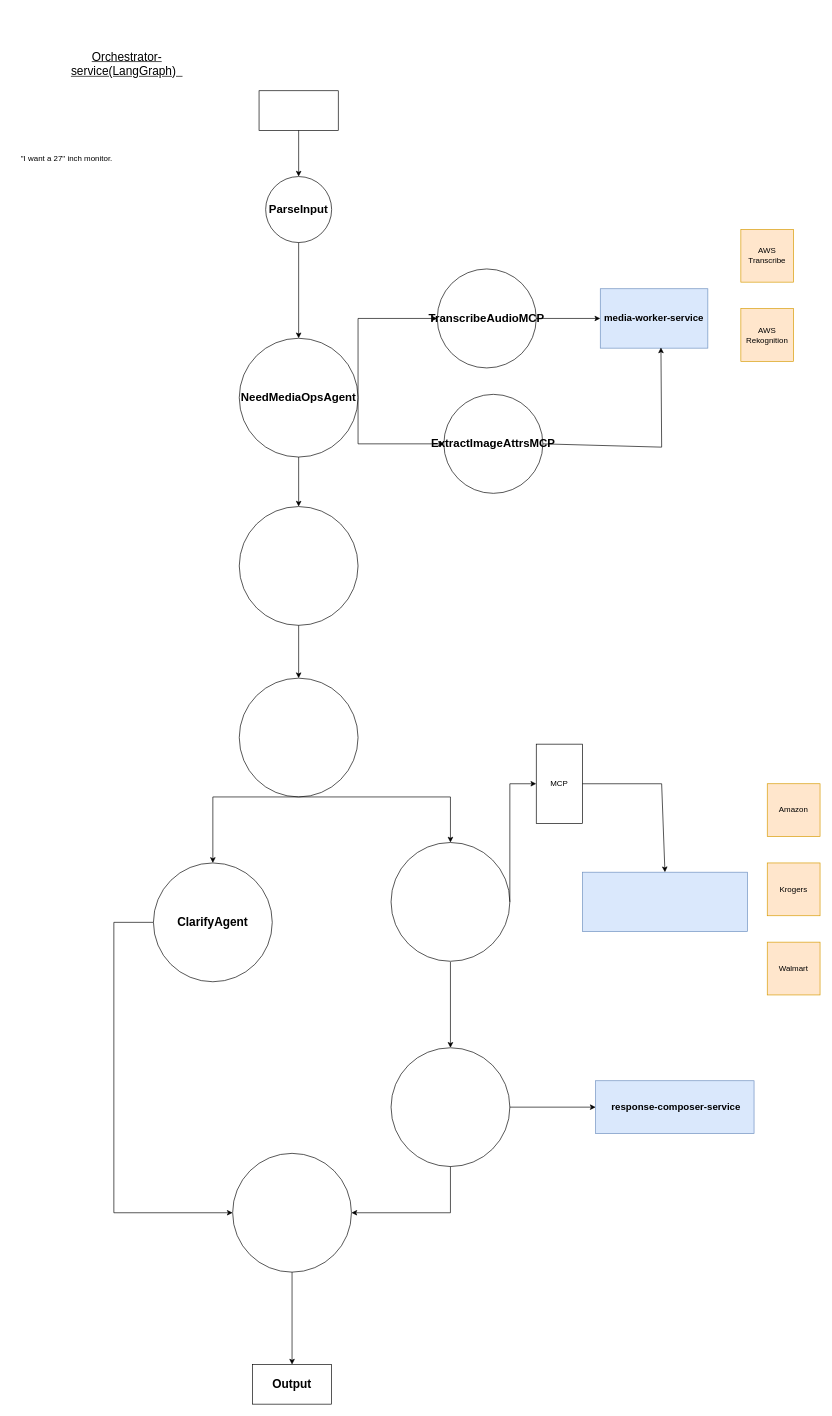
This 832x1416 diagram has some shape labels left out. The centre of each missing label's shape, as x and y in pixels:
"BuildOrUpdate- RequirementSpecAgent" goes at point (298, 565).
"catalog-integration-service" goes at point (664, 902).
"Input" goes at point (298, 110).
"NeedClarifyAgent" goes at point (298, 737).
"rankAndCompose" goes at point (450, 1107).
"Reply" goes at point (291, 1212).
"SearchMarketplaces" goes at point (450, 901).
